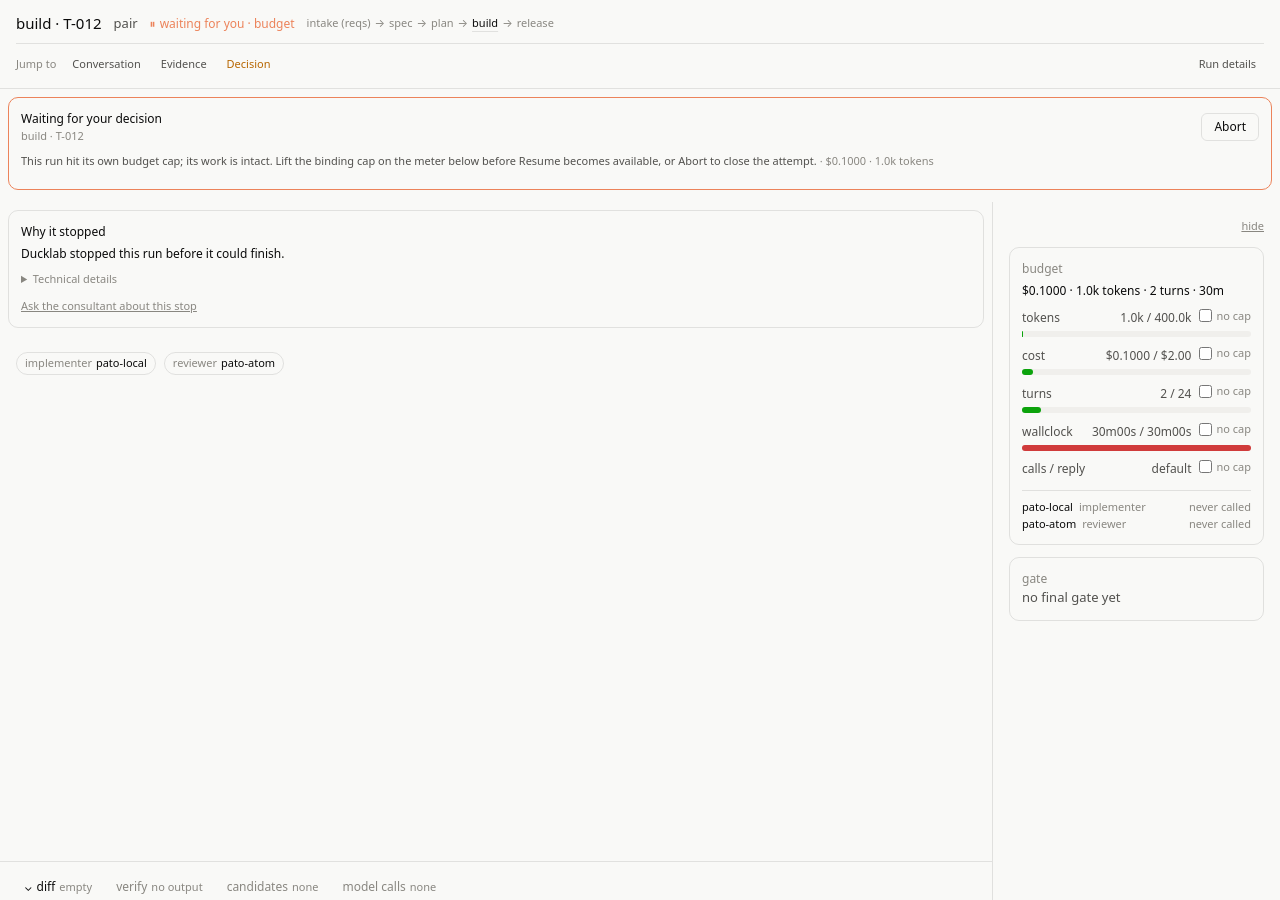
Test: a run paused on its wallclock cap › offers the missing wallclock lift and reveals Resume after it lands
Expected: the element with test id "decision-consequence" shows "before Resume becomes available", [21,152,817,168]
Click the checkbox with test id "lift-wallclock".
click(1206, 429)  # box [1200,422,1212,436]
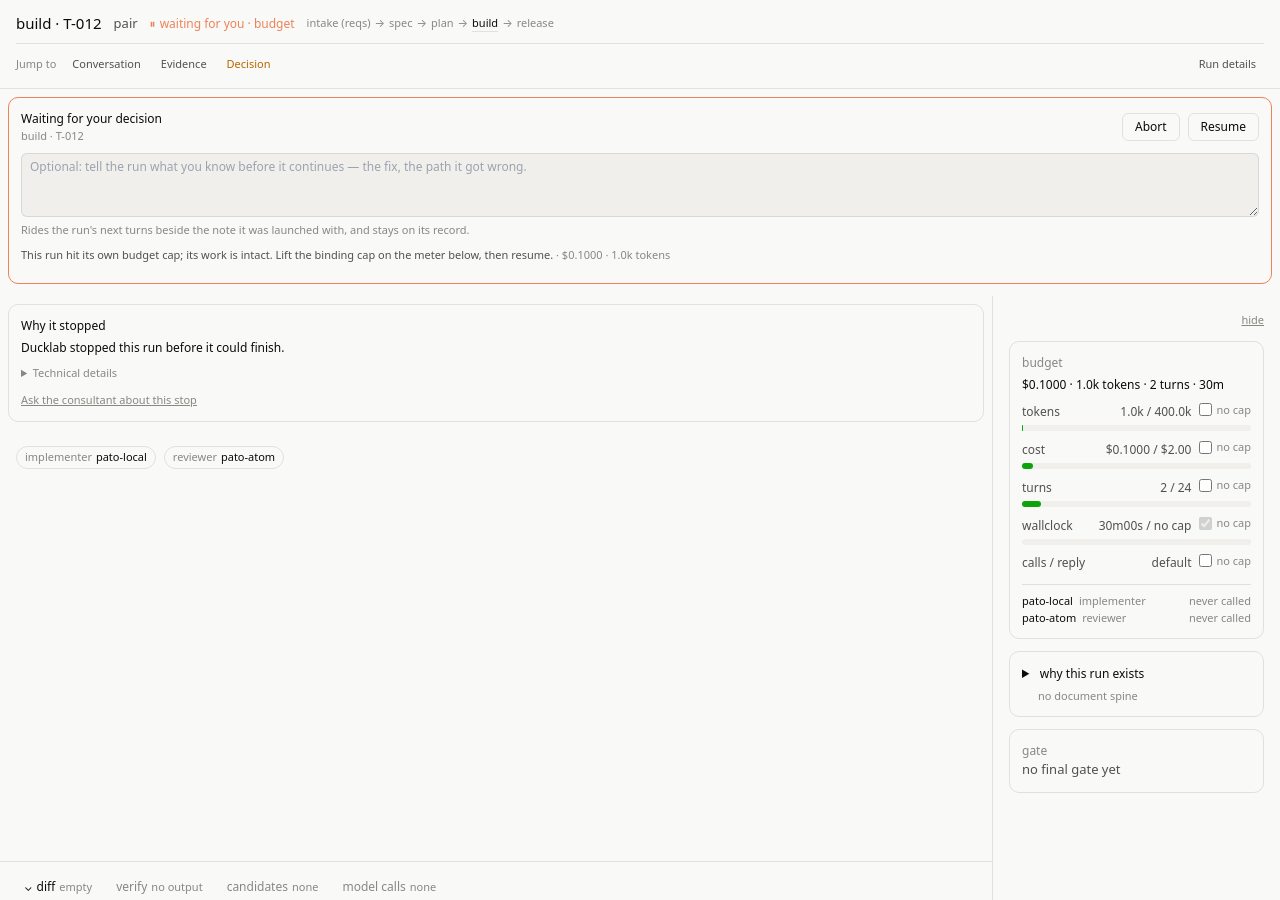
Result: the button with test id "resume-button" is shown at [1188,113,1259,141]
